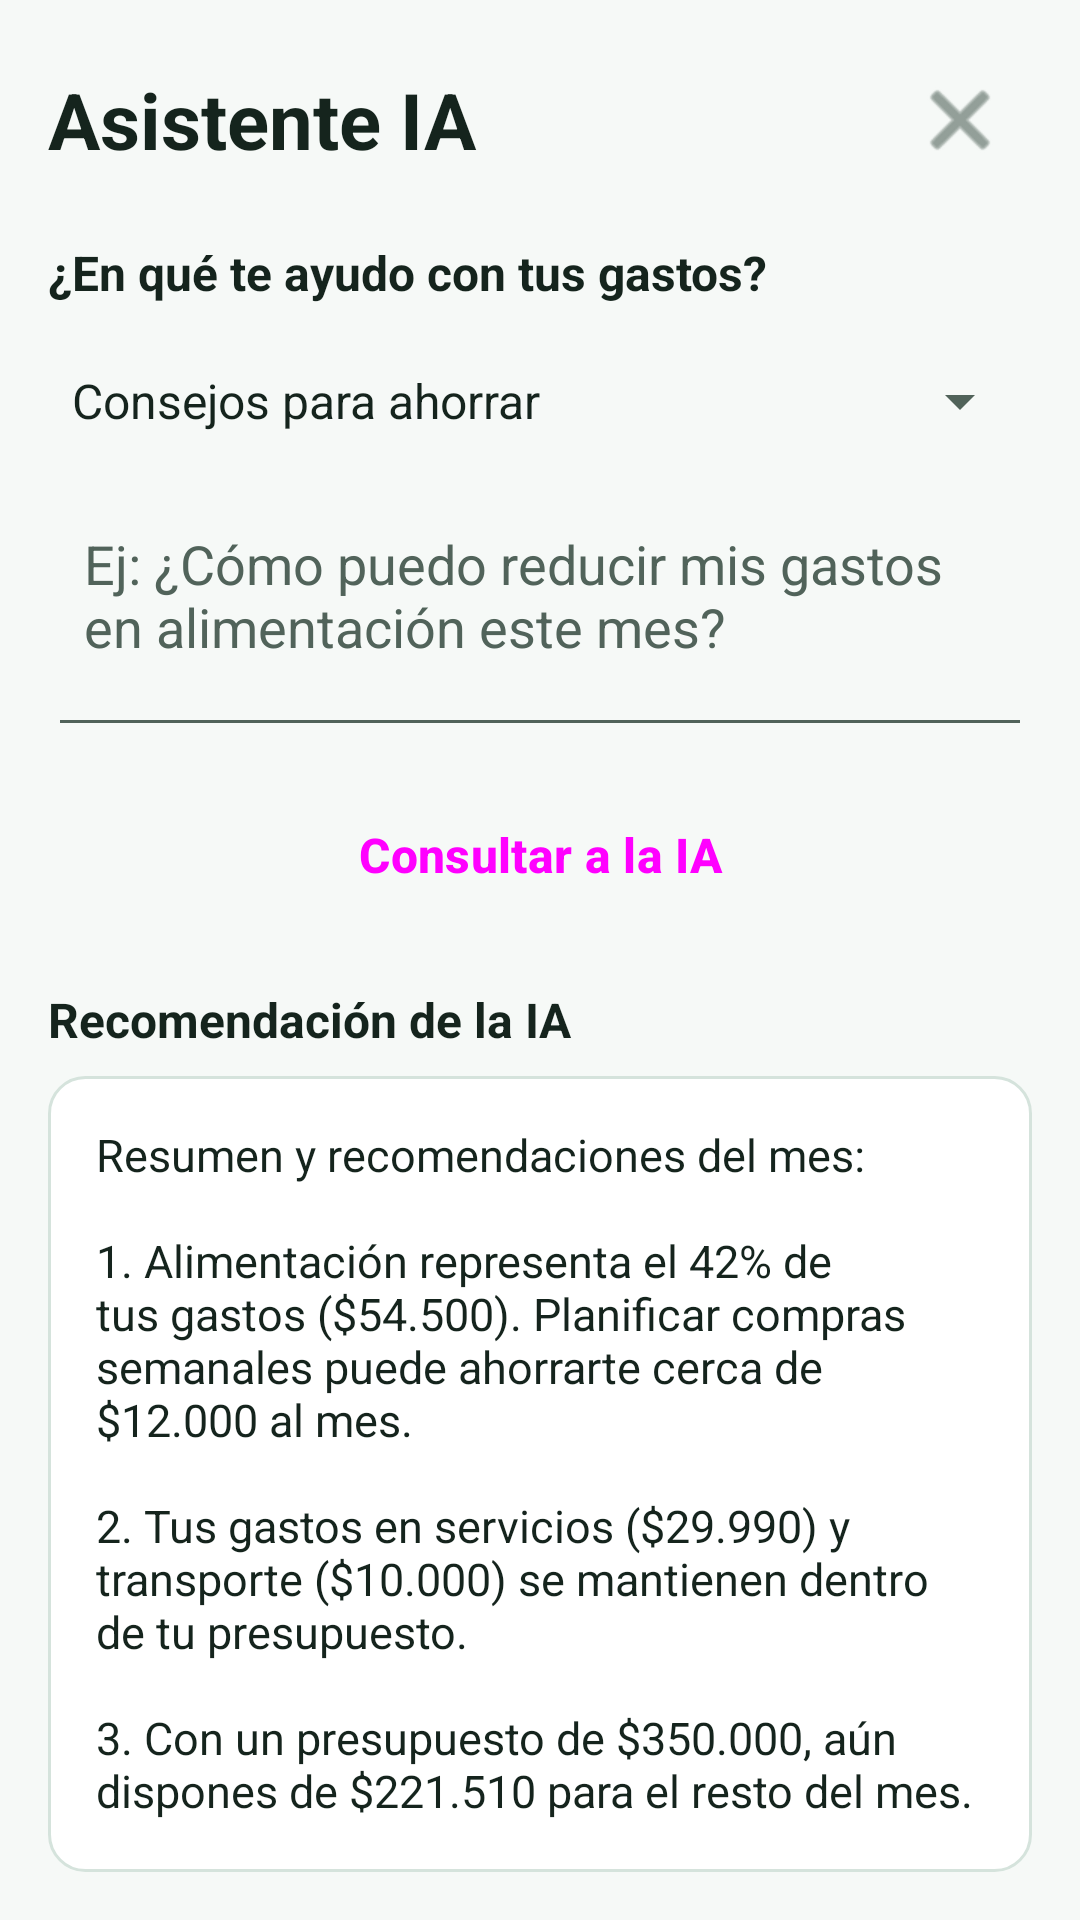

Named icons in this screenshot (1080x1920) and their centers, point (x, y):
Volver a la lista: point (960, 120)
